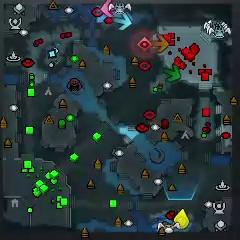p4: (173, 208, 191, 229)
x1: (100, 0, 118, 18)
x3: (113, 14, 132, 30)
x4: (163, 64, 182, 83)
x5: (151, 35, 169, 53)
